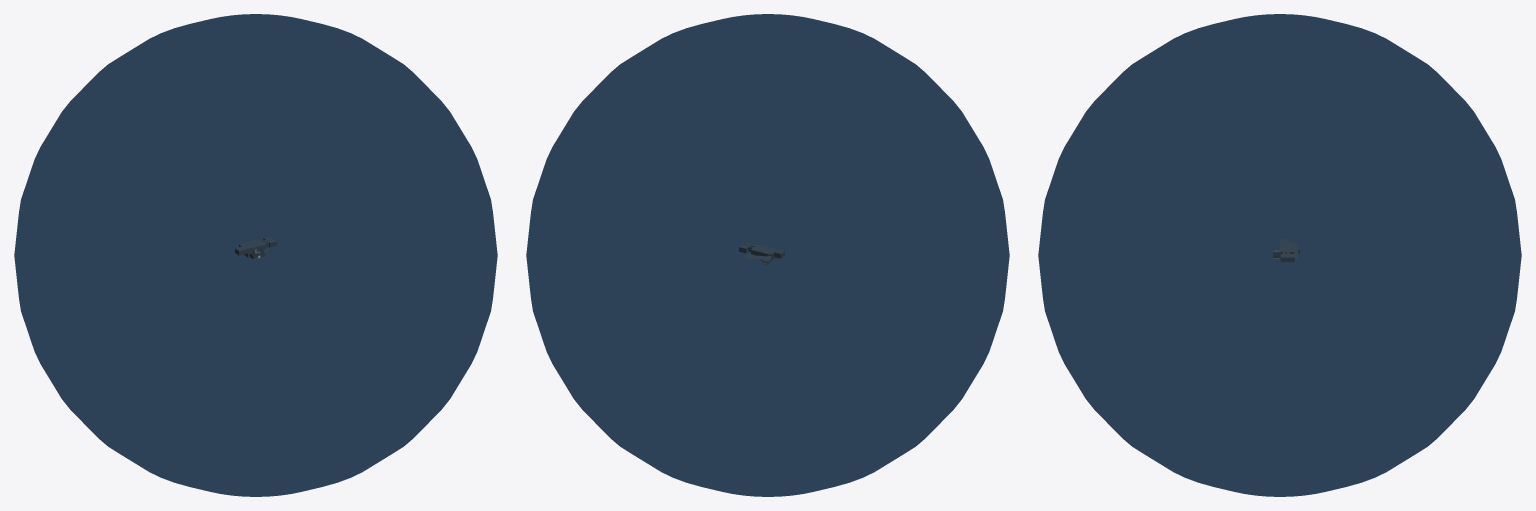
The model's file is aquarium_reception_lobby.glb.
The picture shows the model from 3 angles, left to right: view 1: azimuth 30°, elevation 25°; view 2: azimuth 150°, elevation 25°; view 3: azimuth 270°, elevation 25°; orthographic projection.
Parts seen in each view (by area): view 1: ExteriorNightSky, ReceptionWall; view 2: ExteriorNightSky, ReceptionWall; view 3: ExteriorNightSky.
Part boxes in pixels (x1,y1,x2,y2): ExteriorNightSky: (14,14,497,496); ReceptionWall: (235,236,277,259); ExteriorNightSky: (526,14,1009,496); ReceptionWall: (739,242,784,264); ExteriorNightSky: (1038,14,1521,496).
Bounding box in the file's own units: 600 × 600 × 600.
